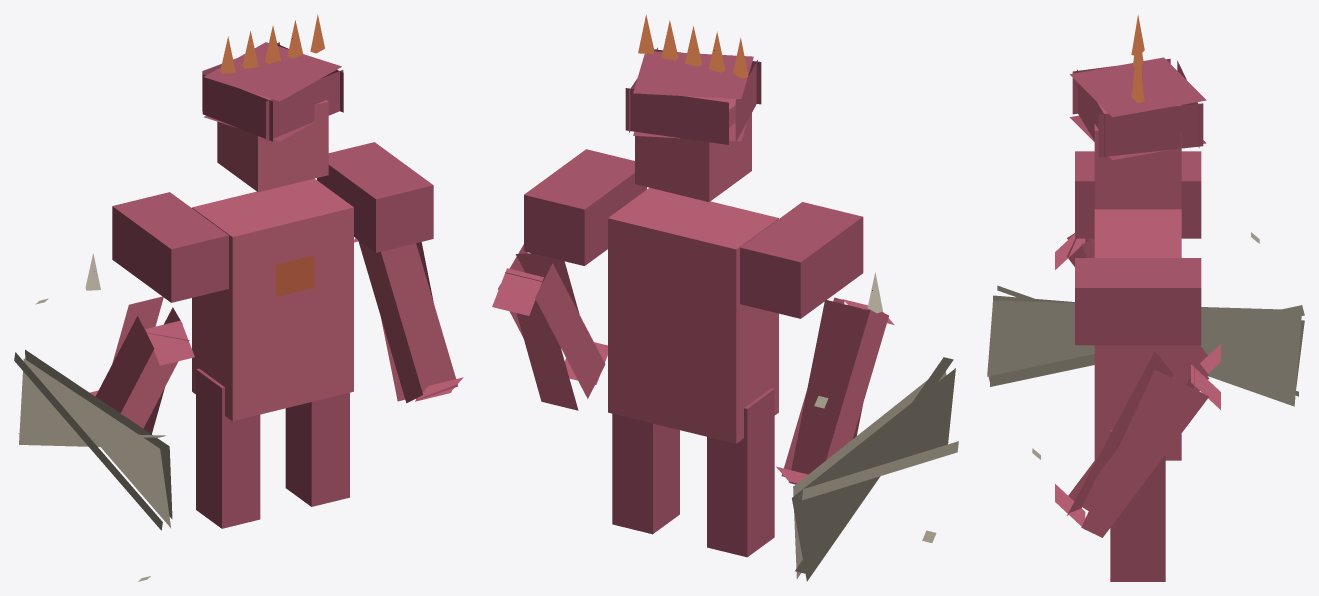
File: takeda-03.glb
3 views of the same model, side by side, from view 1: azimuth 30°, elevation 25°; view 2: azimuth 150°, elevation 25°; view 3: azimuth 270°, elevation 25° (orthographic). The views are drawn at different scales.
Visible parts, largest first — view 1: samurai; view 2: samurai; view 3: samurai.
Boxes of the visible parts, bbox=[...] form: samurai: bbox=[14, 14, 463, 581]; samurai: bbox=[492, 14, 958, 581]; samurai: bbox=[987, 14, 1304, 581].
Bounding box in the file's own units: 1.05 × 1.43 × 0.8054.
